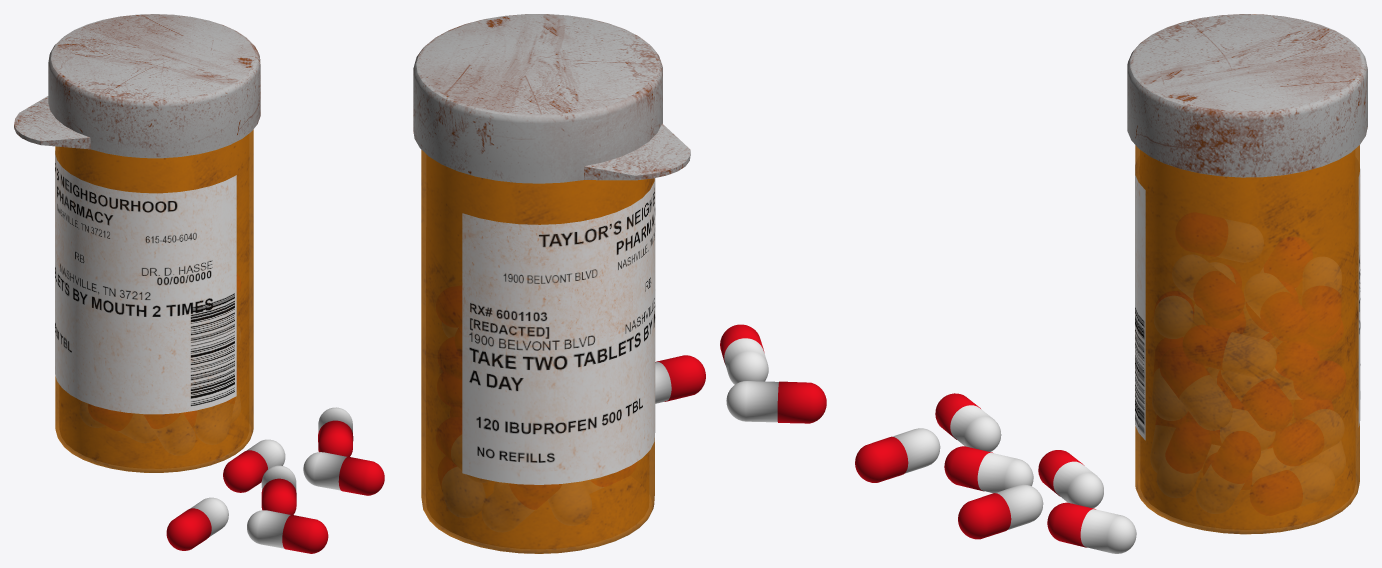
Rendered from sanity_pill_bottle.glb.
3 views of the same model, side by side, from view 1: azimuth 30°, elevation 25°; view 2: azimuth 150°, elevation 25°; view 3: azimuth 270°, elevation 25° (orthographic). The views are drawn at different scales.
Visible parts, largest first — view 1: label, cap, bottle, Sphere.031, Sphere.034, Sphere.033, Sphere.030, Sphere.032, Sphere.029; view 2: label, cap, bottle, Sphere.033, Sphere.034, Sphere.032; view 3: bottle, cap, label, Sphere.029, Sphere.031, Sphere.034, Sphere.032, Sphere.033, Sphere.030.
Part boxes in pixels (left/top/right/bottom): label: left=55, top=150, right=236, bottom=414; cap: left=14, top=14, right=260, bottom=158; bottle: left=55, top=129, right=253, bottom=472; Sphere.031: left=303, top=452, right=384, bottom=495; Sphere.034: left=247, top=510, right=328, bottom=553; Sphere.033: left=166, top=497, right=228, bottom=550; Sphere.030: left=223, top=439, right=285, bottom=492; Sphere.032: left=261, top=465, right=296, bottom=514; Sphere.029: left=318, top=407, right=353, bottom=456; label: left=462, top=178, right=655, bottom=484; cap: left=413, top=14, right=690, bottom=183; bottle: left=421, top=150, right=654, bottom=553; Sphere.033: left=726, top=381, right=826, bottom=423; Sphere.034: left=720, top=324, right=768, bottom=384; Sphere.032: left=655, top=355, right=705, bottom=403; bottle: left=1135, top=145, right=1359, bottom=534; cap: left=1127, top=14, right=1367, bottom=177; label: left=1135, top=164, right=1360, bottom=440; Sphere.029: left=1047, top=502, right=1136, bottom=553; Sphere.031: left=958, top=484, right=1043, bottom=539; Sphere.034: left=855, top=428, right=940, bottom=482; Sphere.032: left=944, top=446, right=1033, bottom=493; Sphere.033: left=935, top=393, right=1001, bottom=451; Sphere.030: left=1038, top=450, right=1103, bottom=508.
Size of the model in its own units: 117 by 157 by 171.
5 materials, 3 textured.
